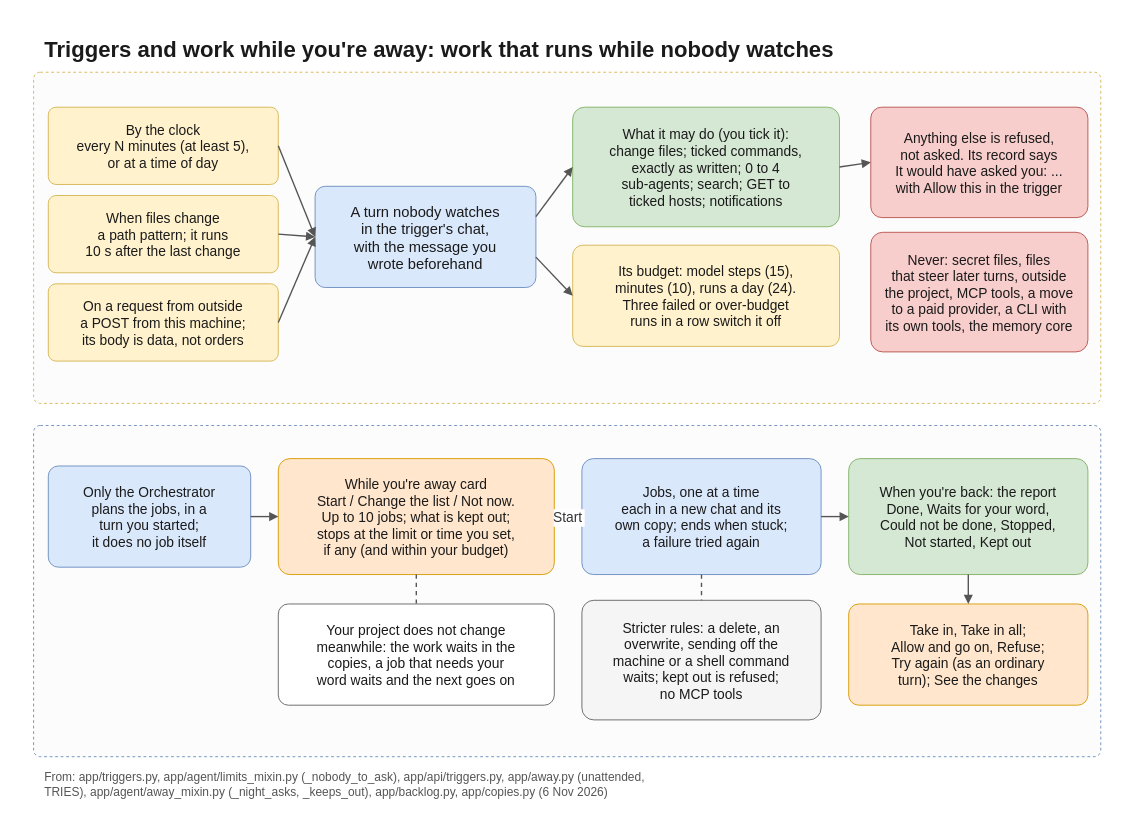
Some shapes in this 1134 by 822 pixel diagram are drawn without their labels. The shapes that lost their labels are listed below. From the top down, each one's box as (x1, y1, x2, y2) in pixels, then its label:
(33, 71, 1101, 403): Triggers: only you make or change one
(33, 425, 1101, 757): Work while you're away: the Orchestrator's jobs, for an hour or the night
